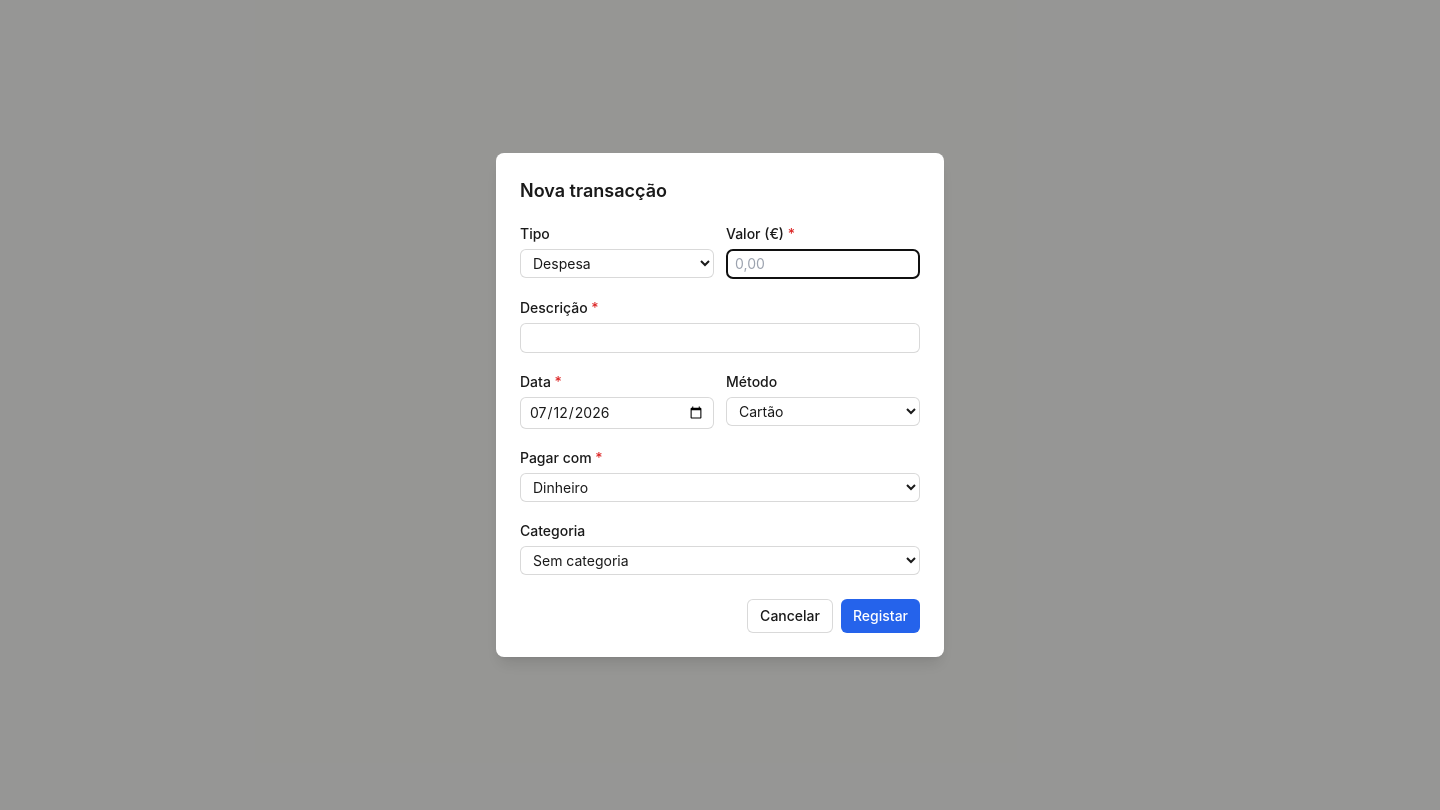
Test case: <NewTransactionModal> › erro do servidor mostra alerta e não fecha
The width and height of the screenshot is (1440, 810).
Type "5" into the field named "Valor em euros" at (823, 264), box [726, 249, 920, 279]
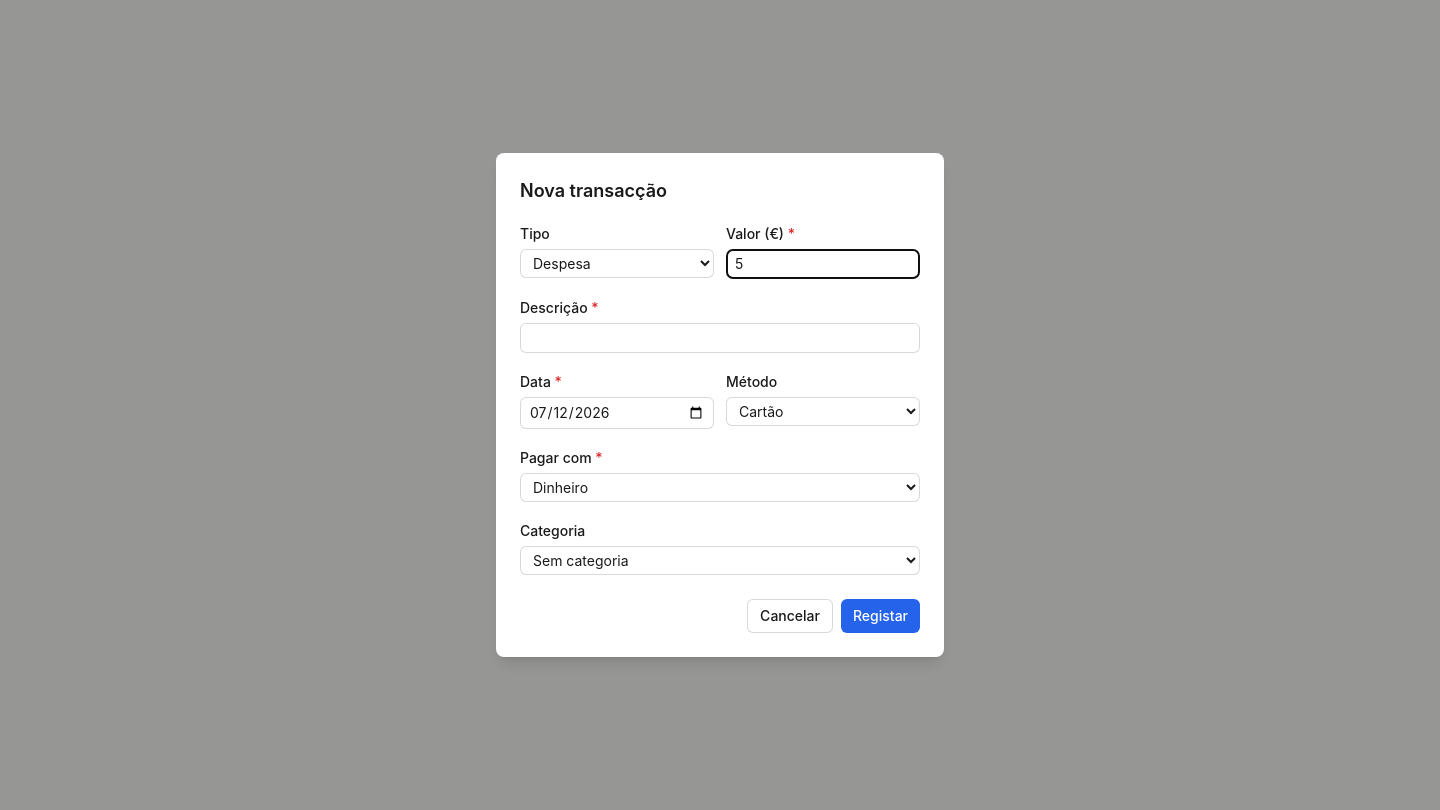
Type "X" into the field labelled "Descrição" at (720, 338), box [520, 323, 920, 353]
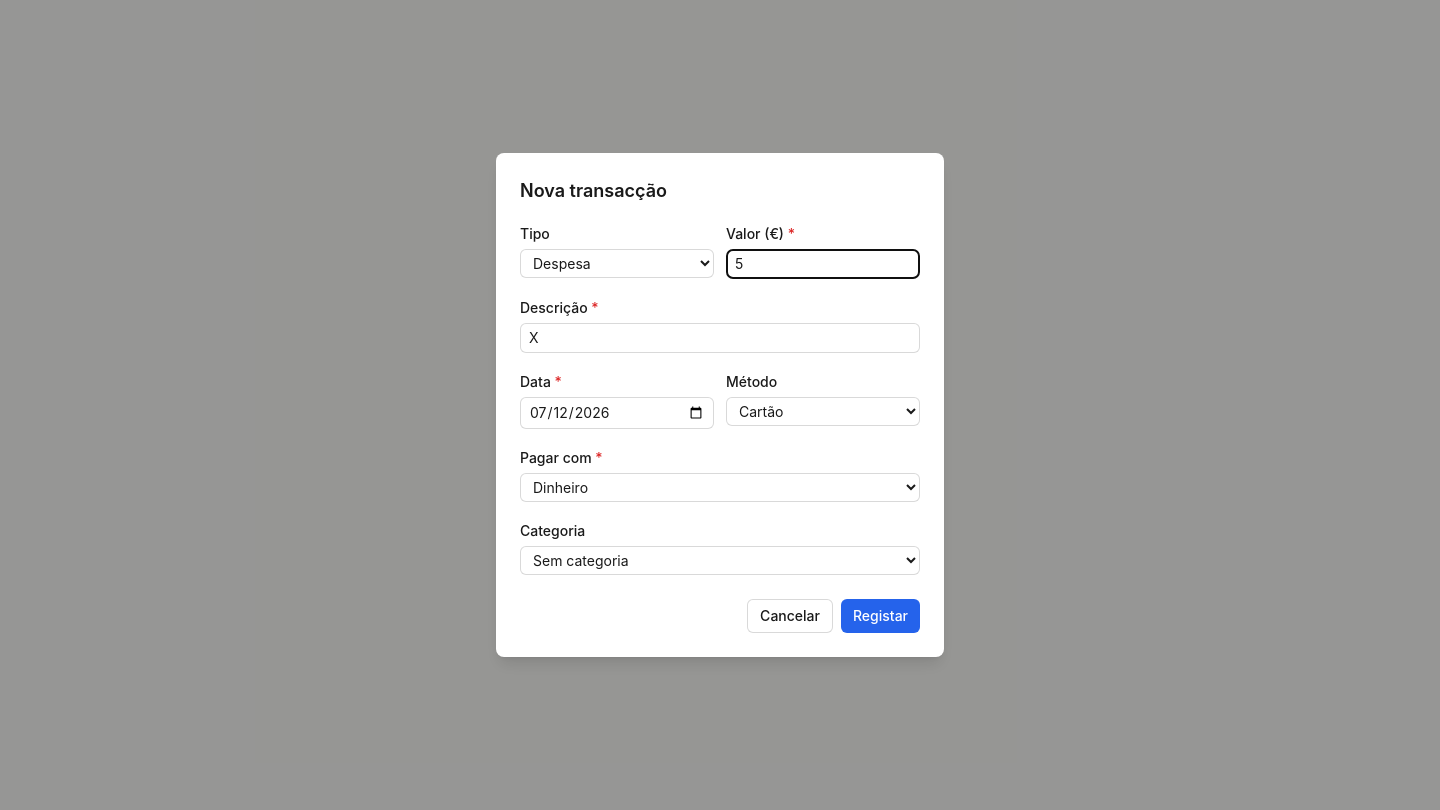
Click the button "Registar" at (880, 616), box [841, 599, 920, 633]
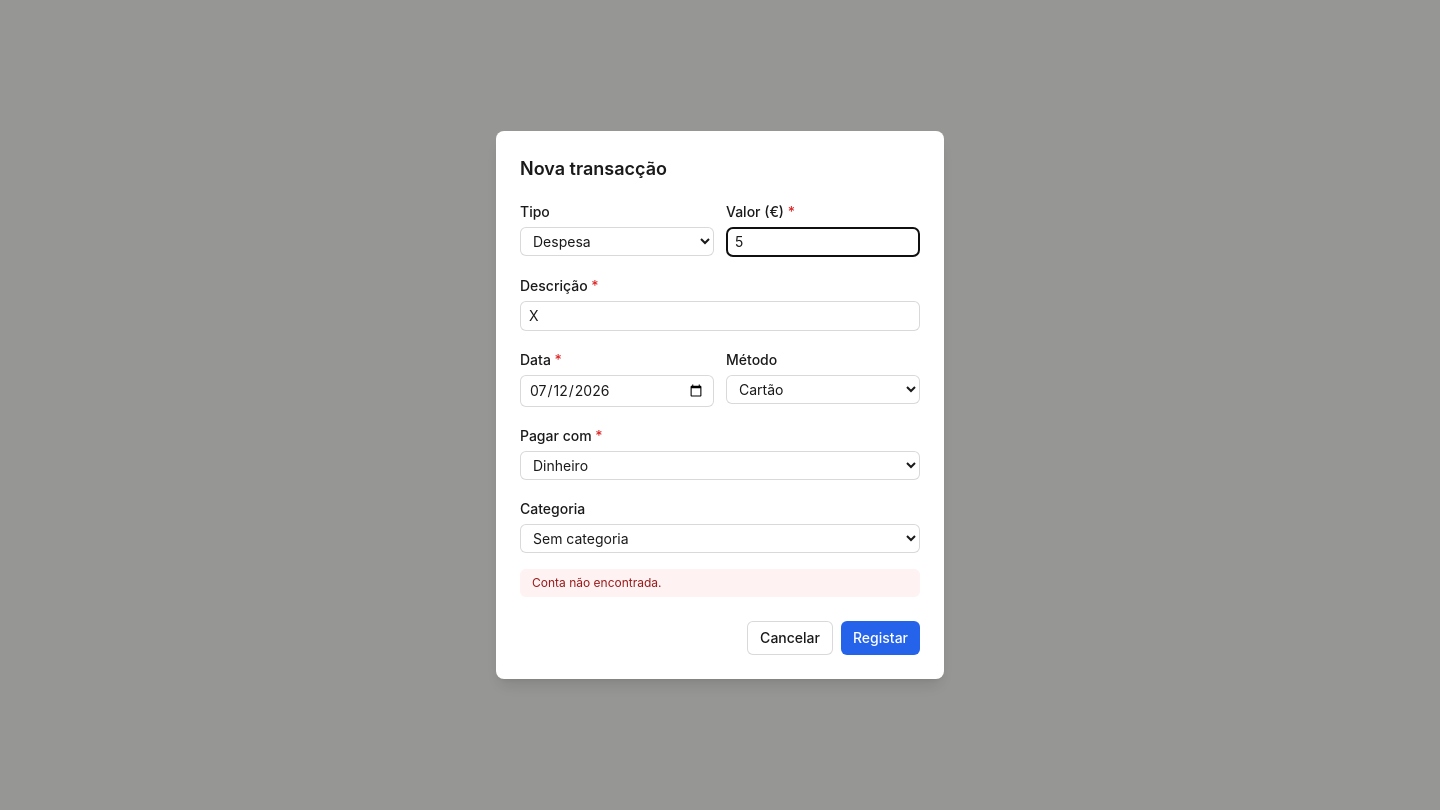
Now the message reads "Conta não encontrada.", box [532, 575, 662, 590]
